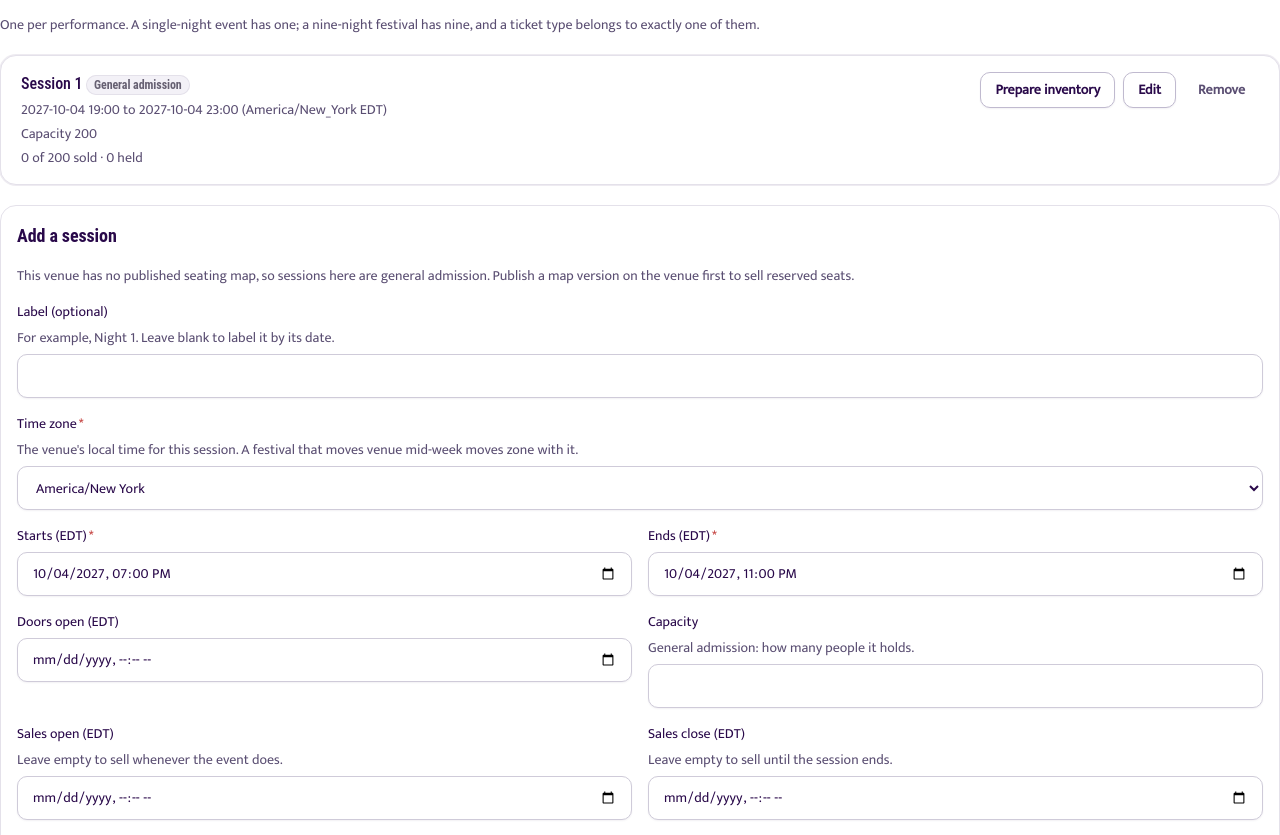
writing as the team at The Desi Events, whose second factor lapses every 10 minutes › asks for the second factor where the night was saved, then sends the same change again
The image size is (1280, 835).
Click the button with aria-label "Edit session 1": click(1150, 90) [1123,72,1176,108]
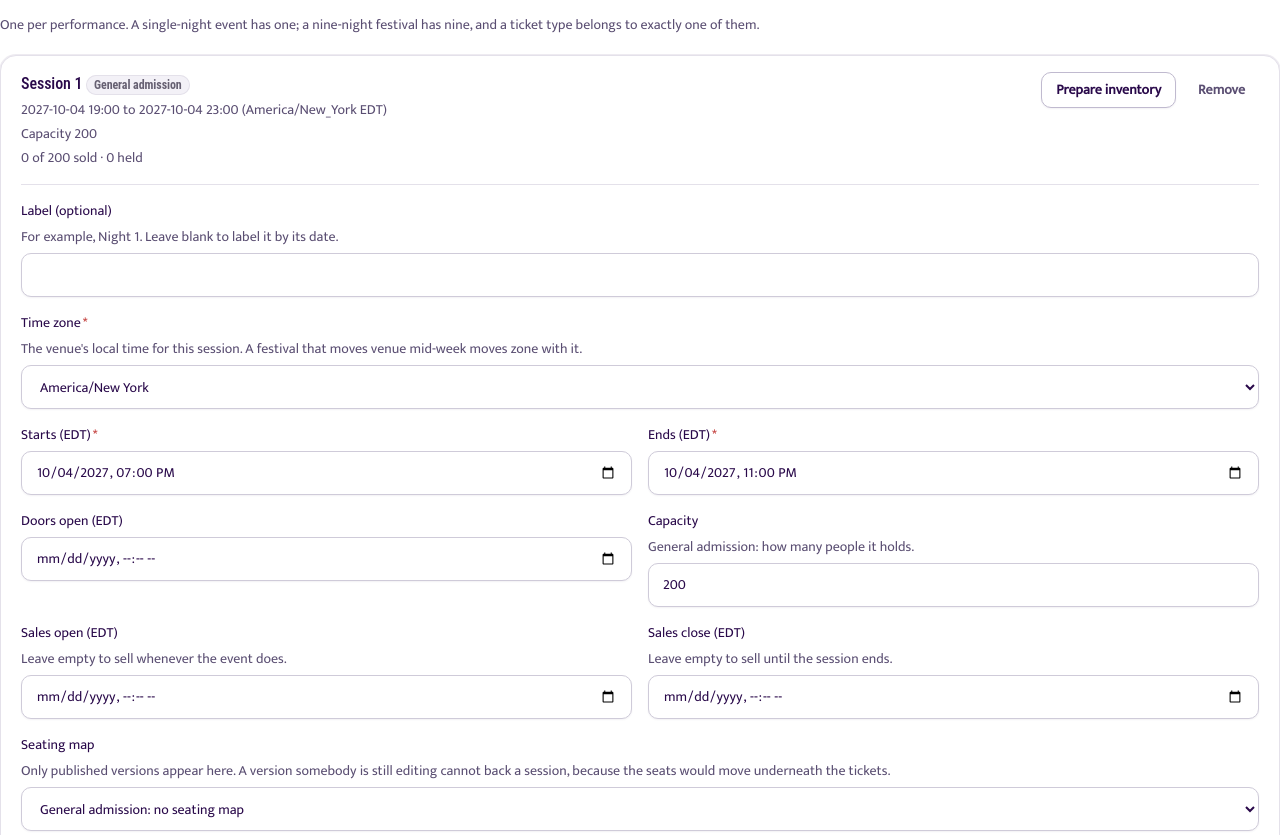
Replace the text in the number field labelled "Capacity" with "250": (954, 585) [648,563,1259,607]
(page scrolled)
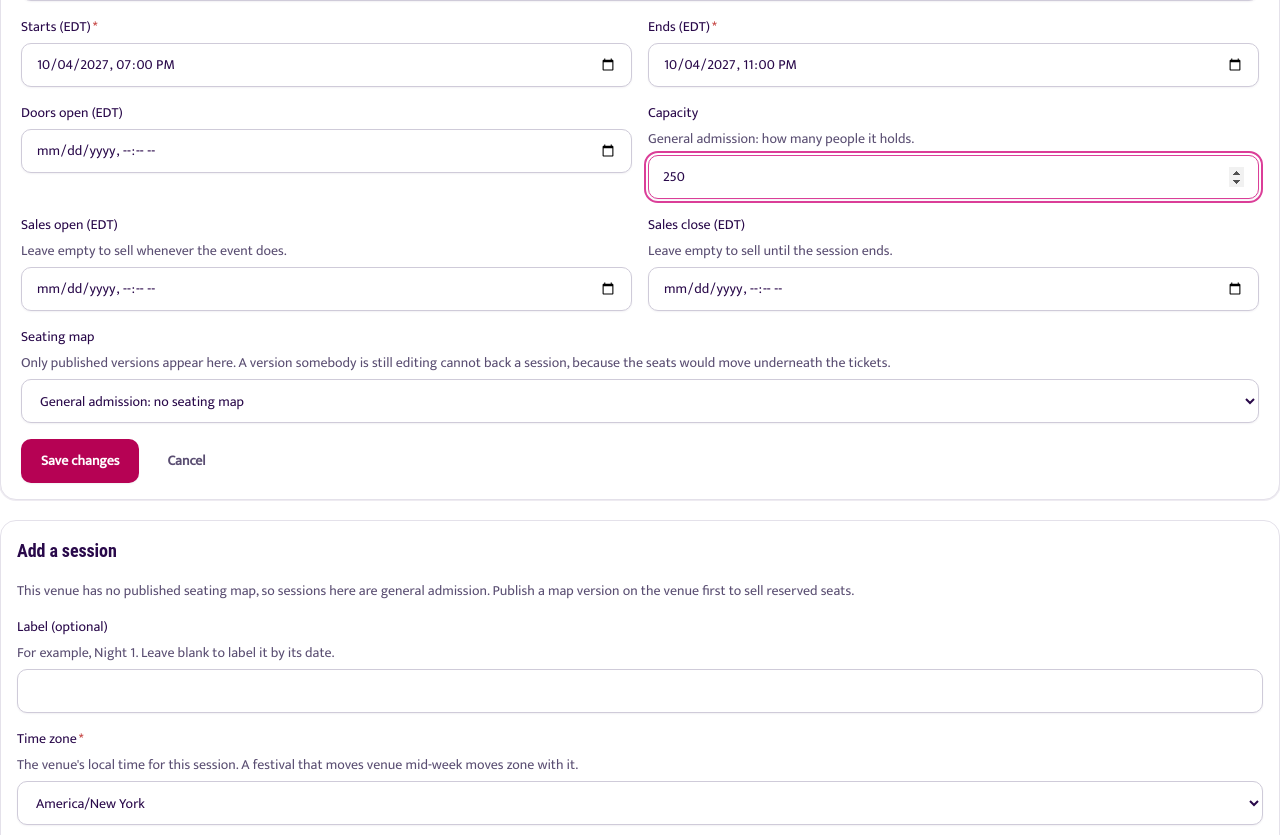
Click the button "Save changes": click(80, 461) [21,439,139,483]
(page scrolled)
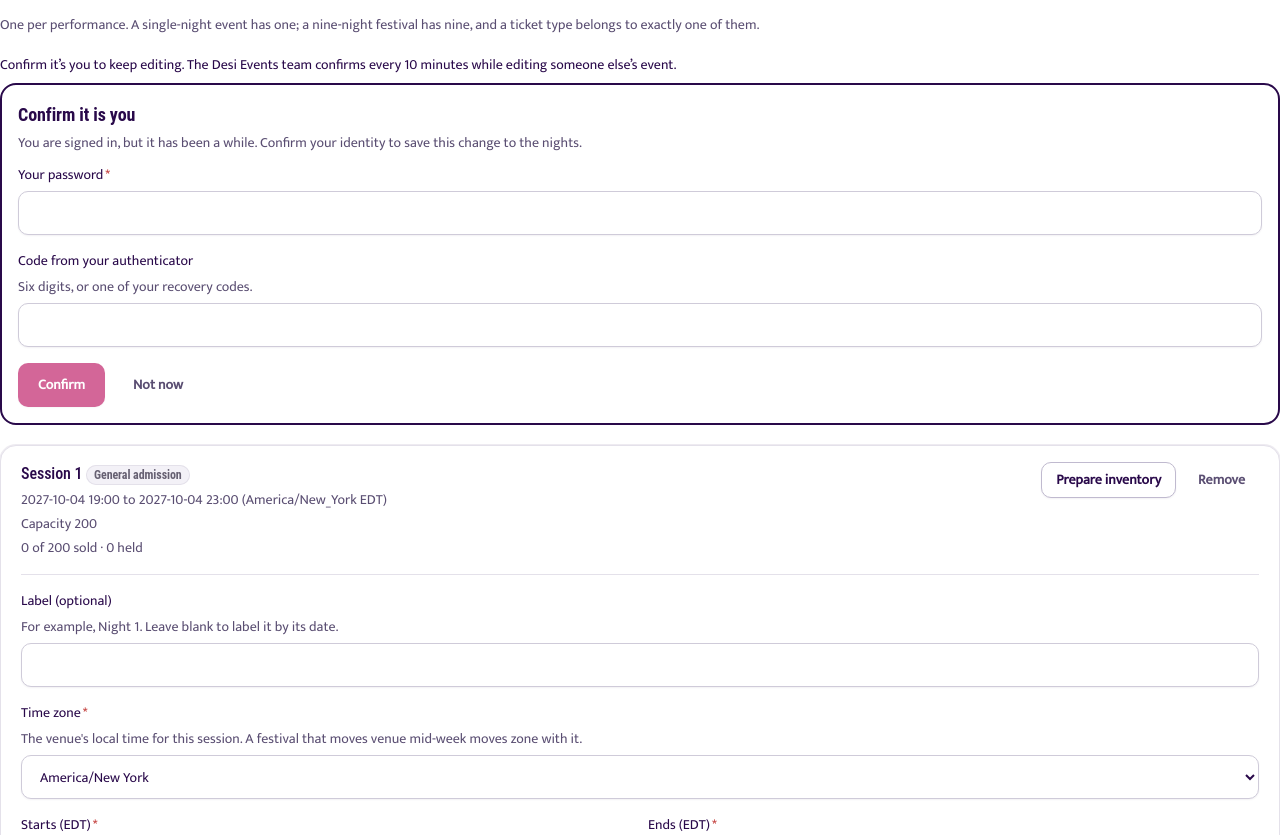
Now the text "Confirm it’s you to keep editing. The Desi Events team confirms every 10 minutes while editing someone else’s event." is shown, box [0,53,676,76]
In the password field labelled "Your password*": (640, 213) [18,191,1262,235], type "correct horse"
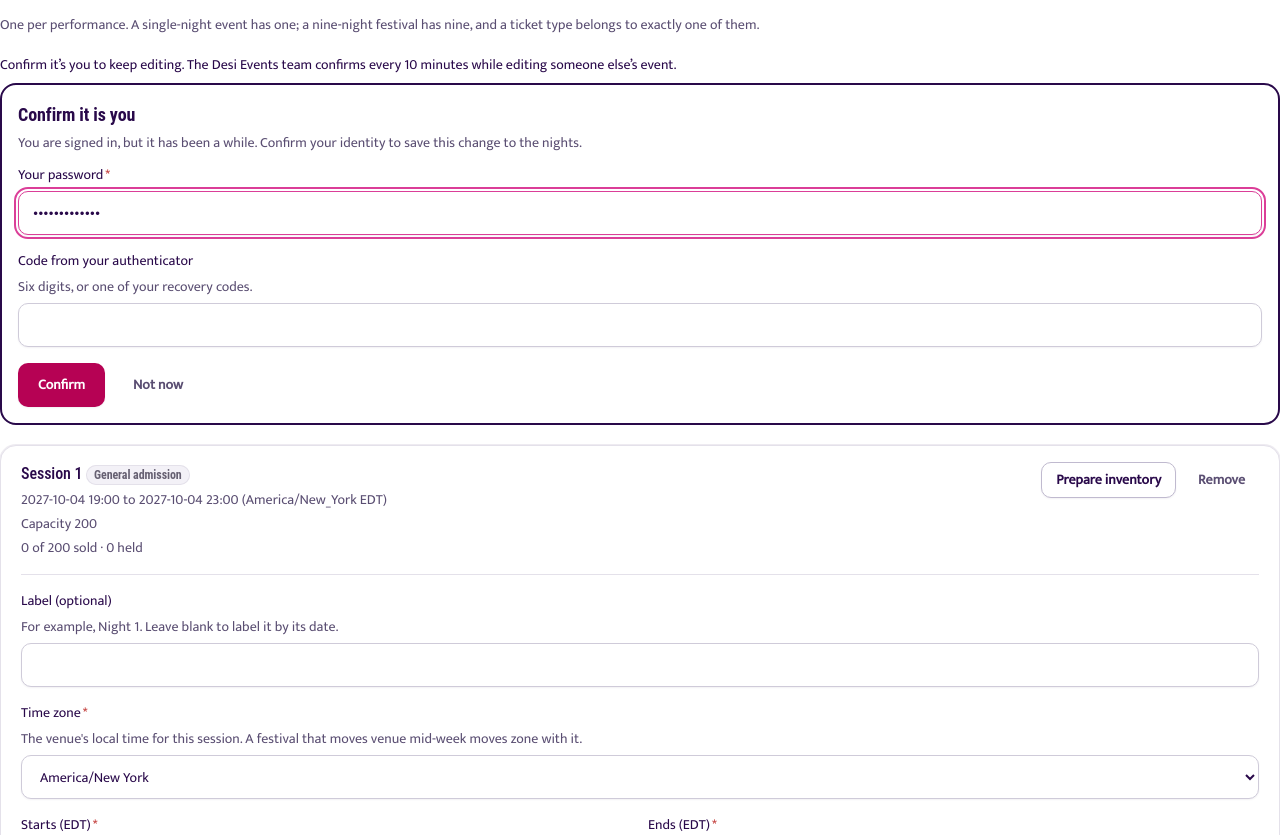
Click the button "Confirm": click(61, 385) [18,363,105,407]
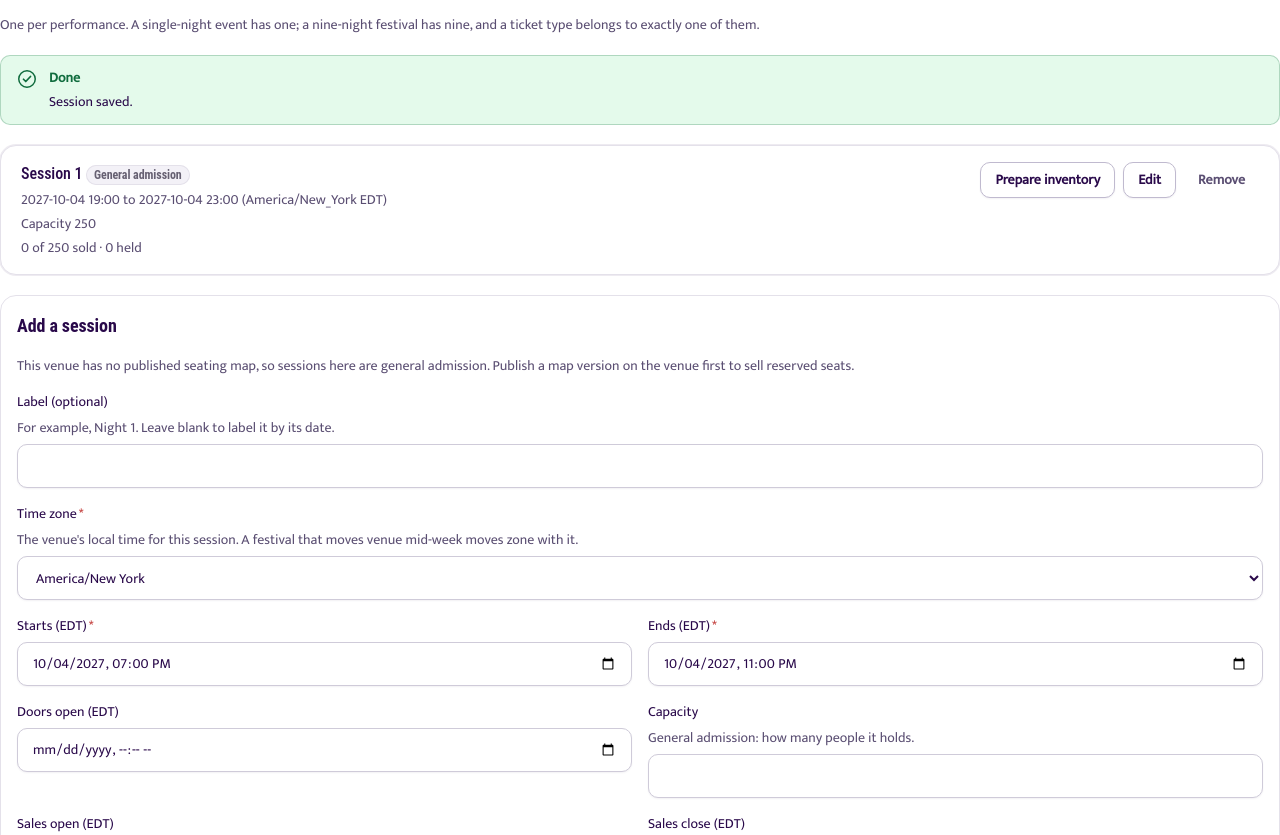
Now the text "Session saved." is shown, box [49,90,132,113]
Now the text "Confirm it’s you to keep editing. The Desi Events team confirms every 10 minutes while editing someone else’s event." is gone
